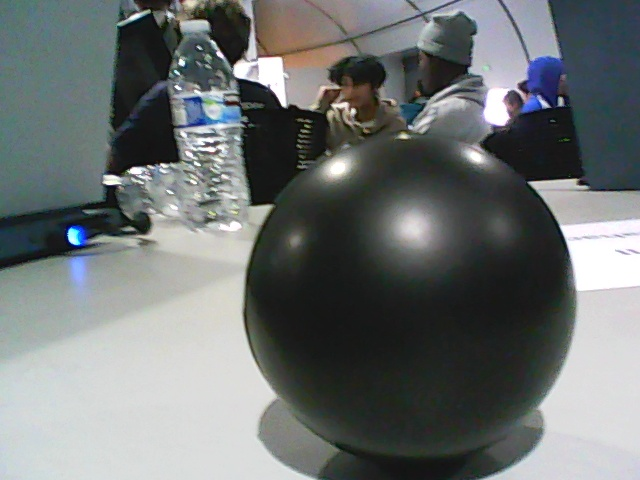ball: (243, 132, 576, 466)
